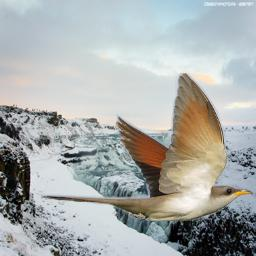Cuckoo: (40, 73, 253, 221)
